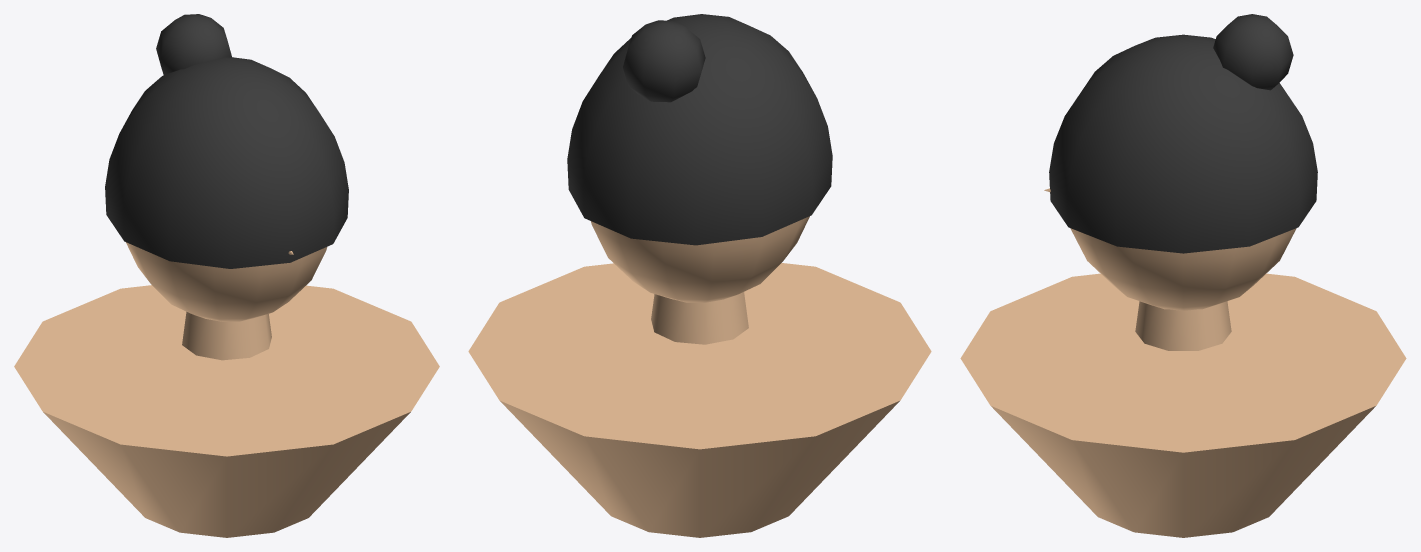
Rendered from raw_003.glb.
3 views of the same model, side by side, from view 1: azimuth 30°, elevation 25°; view 2: azimuth 150°, elevation 25°; view 3: azimuth 270°, elevation 25° (orthographic). The views are drawn at different scales.
Size of the model in its own units: 1.94 by 2.3 by 1.94.
